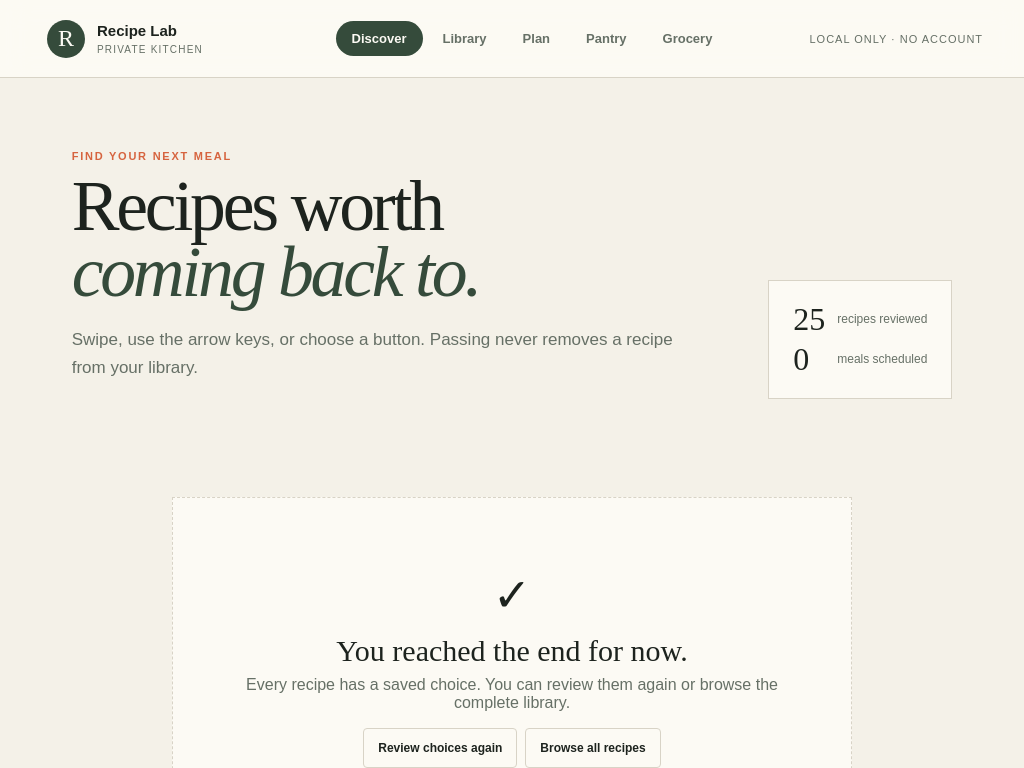
Scenario: Recipe Lab personal planning experience › reviews consecutive recipes as a complete pass without clearing existing preferences
The width and height of the screenshot is (1024, 768).
Click the button "Review choices again". click: (440, 748)
box: [363, 728, 517, 767]
(page scrolled)
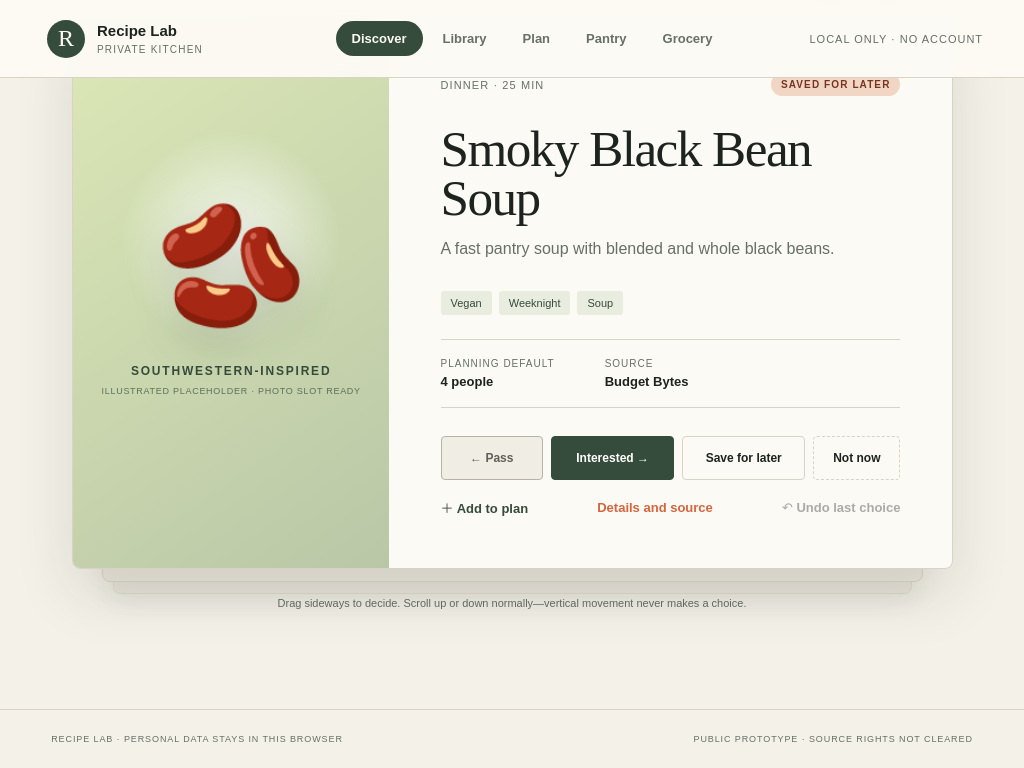
Expected: the heading "Smoky Black Bean Soup" is shown, [440, 120, 811, 226]
Click the button "Not now". click: (856, 458)
box: [813, 436, 900, 480]
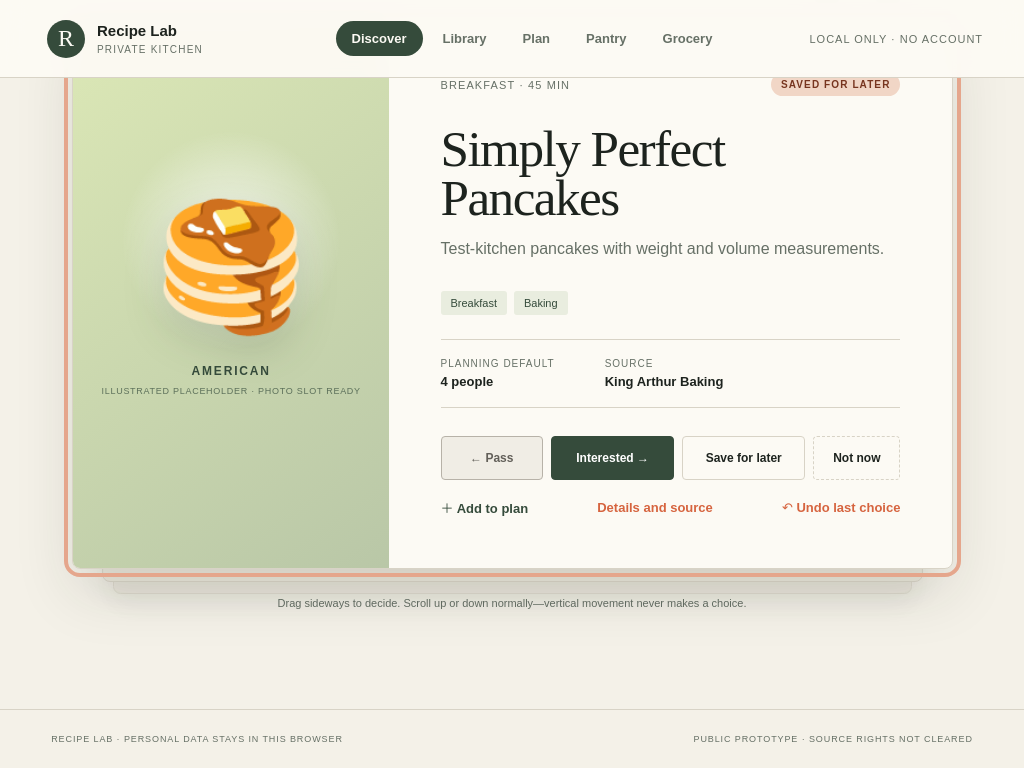
Expected: the heading "Simply Perfect Pancakes" is shown, [440, 120, 724, 226]
Click the button "Save for later". click: (743, 458)
box: [682, 436, 805, 480]
(page scrolled)
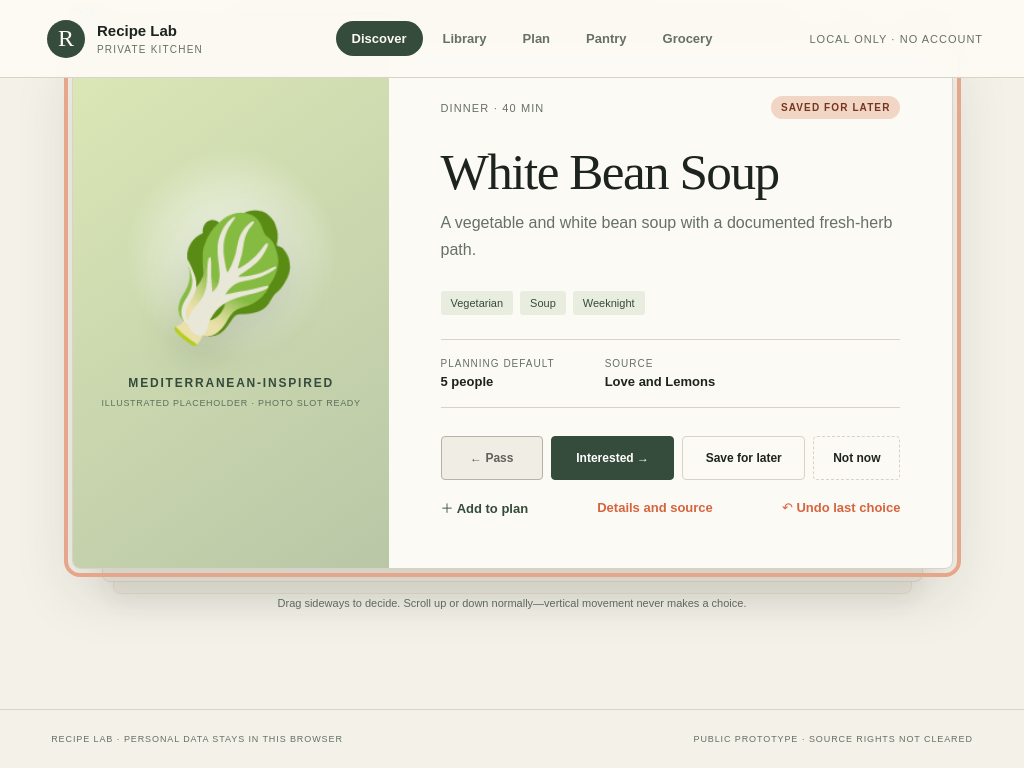
Expected: the heading "White Bean Soup" is shown, [440, 143, 778, 200]
Click the button "Interested →". click: (612, 458)
box: [551, 436, 674, 480]
(page scrolled)
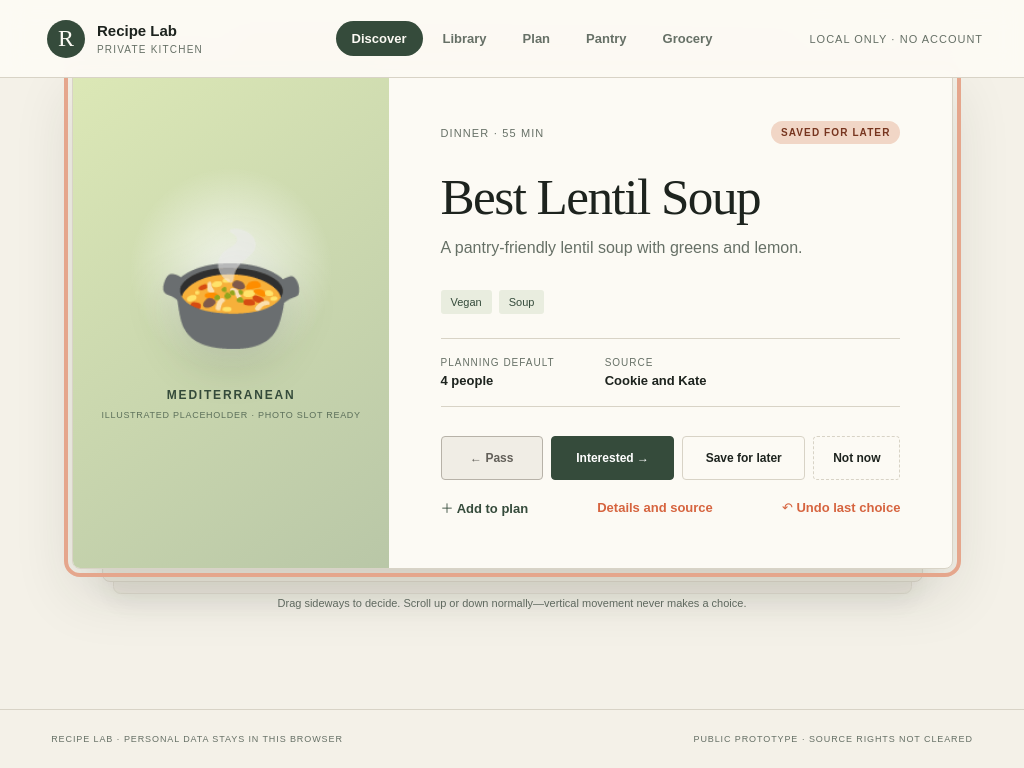
Expected: the heading "Best Lentil Soup" is shown, [440, 168, 760, 225]
